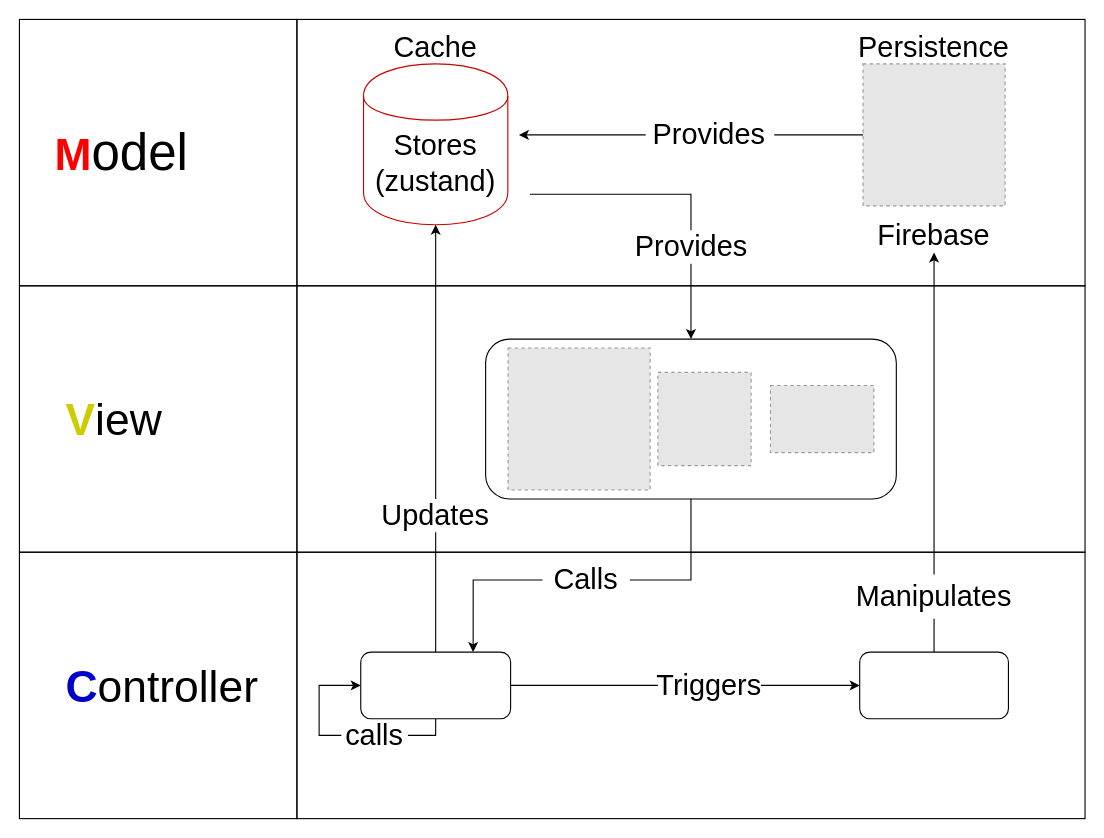
Image size: 1104x838. Some labels were removed from this diagram. Grey dashed boxes stand in for pictures. Here are the shapes that lost their labels. From the top down, the centre of each, then its label:
At point (435, 685): "Actions".
At point (933, 685): "Managers".
